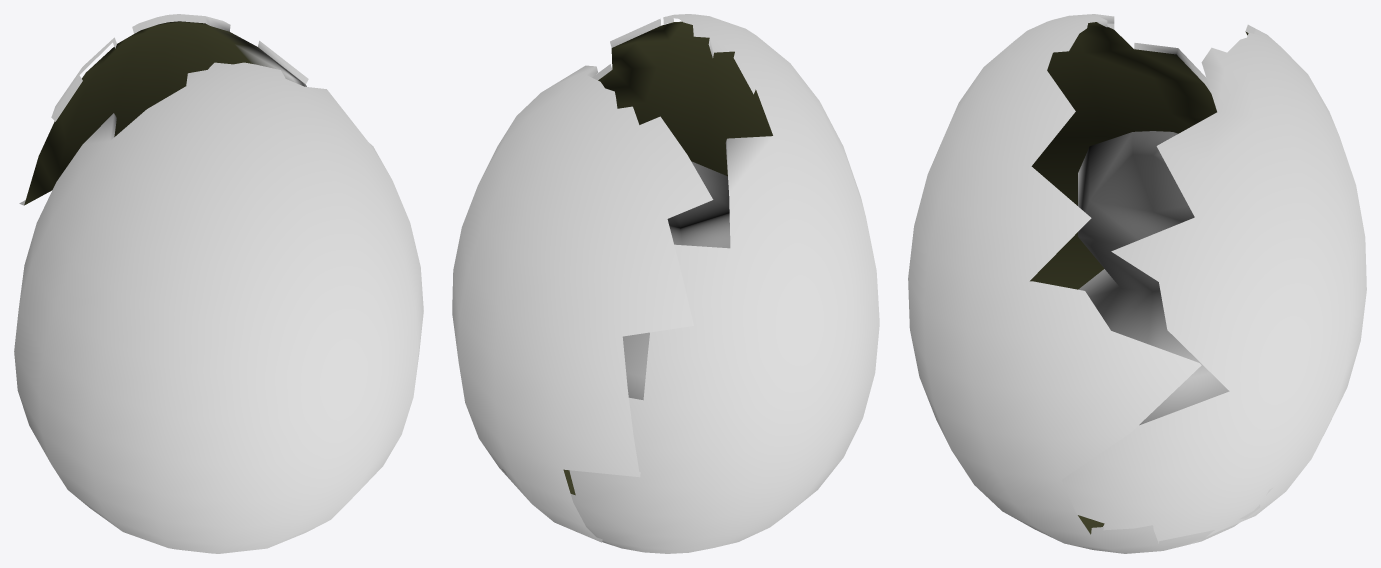
File: egg_shell1.glb
The picture shows the model from 3 angles, left to right: view 1: azimuth 30°, elevation 25°; view 2: azimuth 150°, elevation 25°; view 3: azimuth 270°, elevation 25°; orthographic projection. The views are drawn at different scales.
Parts seen in each view (by area): view 1: egg_shell1; view 2: egg_shell1; view 3: egg_shell1.
Part boxes in pixels (bbox=[...]): egg_shell1: bbox=[14, 14, 423, 553]; egg_shell1: bbox=[452, 14, 879, 553]; egg_shell1: bbox=[908, 14, 1366, 553].
Bounding box in the file's own units: 0.1281 × 0.1675 × 0.137.
